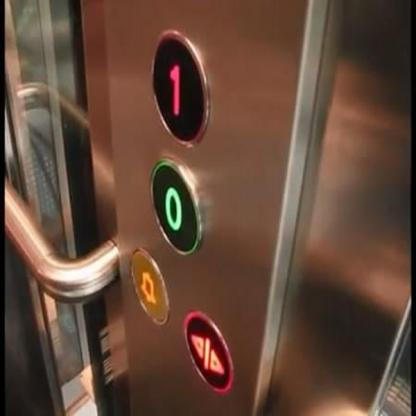0: (148, 157, 200, 255)
1: (149, 30, 209, 146)
alarm: (129, 247, 169, 326)
open: (182, 310, 233, 394)
